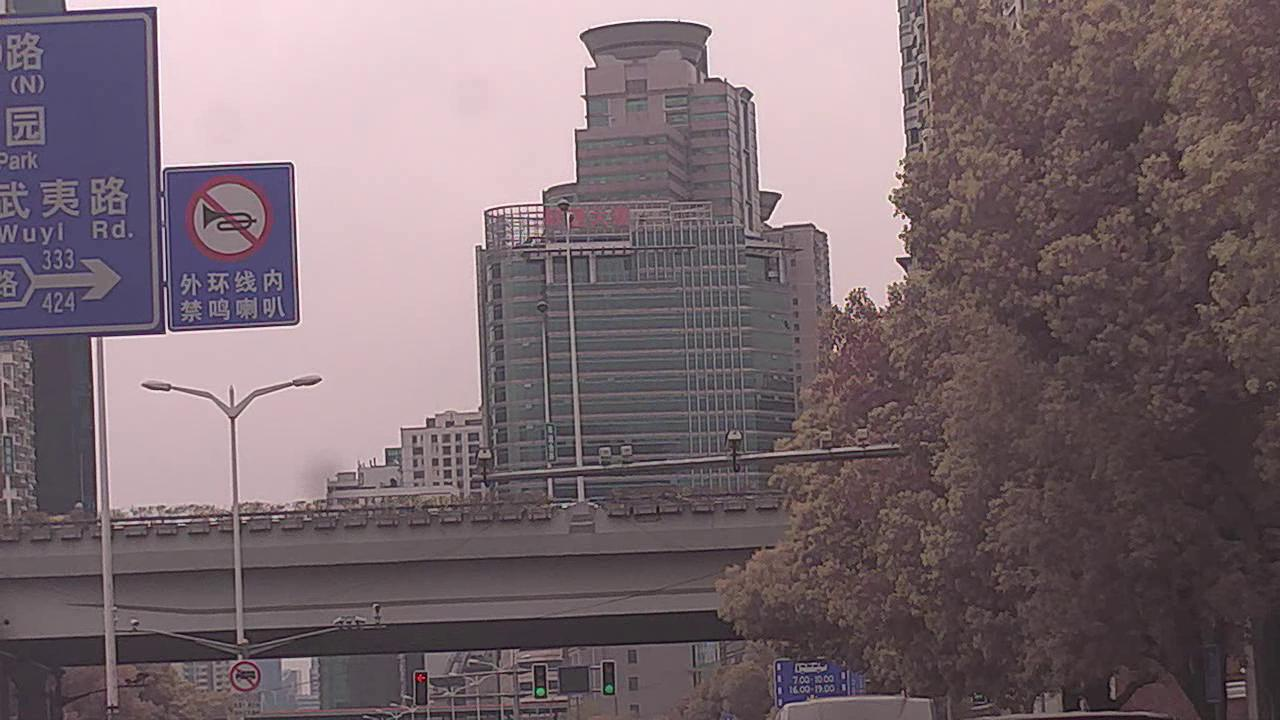traffic_light: (599, 658, 616, 698), (414, 670, 430, 708), (533, 664, 548, 697)
